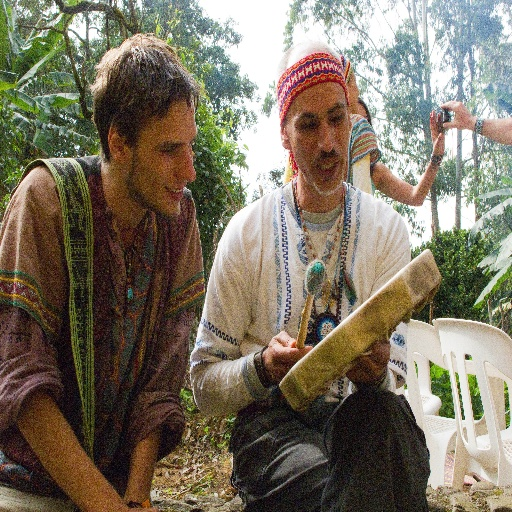hand: (254, 330, 305, 394), (343, 336, 391, 391), (441, 97, 472, 128), (429, 107, 444, 154), (126, 507, 160, 511)
